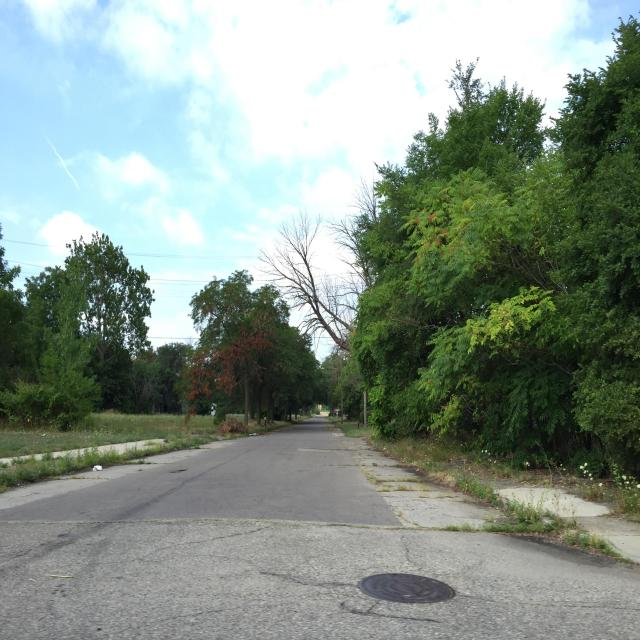Good: (352, 570, 460, 608)
